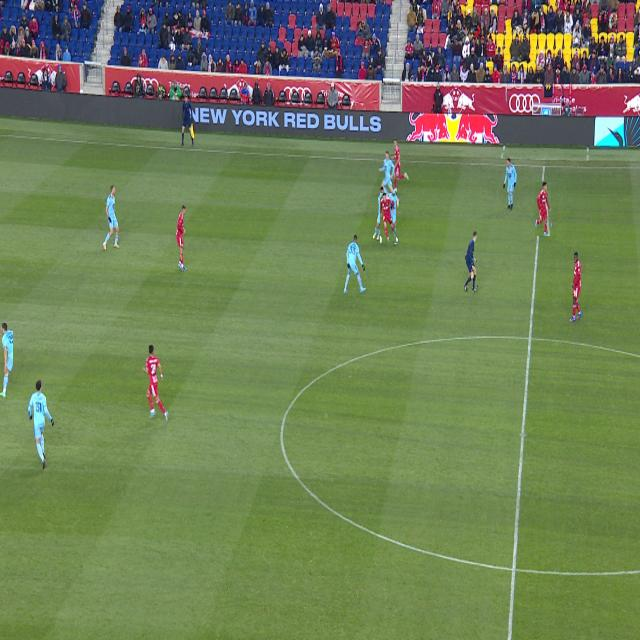football: (393, 236, 398, 245)
player: (28, 380, 54, 469), (143, 345, 168, 423), (343, 235, 366, 293), (379, 151, 399, 208), (103, 185, 120, 250), (0, 323, 13, 398), (391, 138, 409, 192), (569, 252, 582, 322), (536, 182, 551, 236), (380, 194, 396, 243), (373, 186, 387, 240), (503, 158, 517, 209), (176, 205, 186, 270)
referee: (465, 232, 477, 292)
